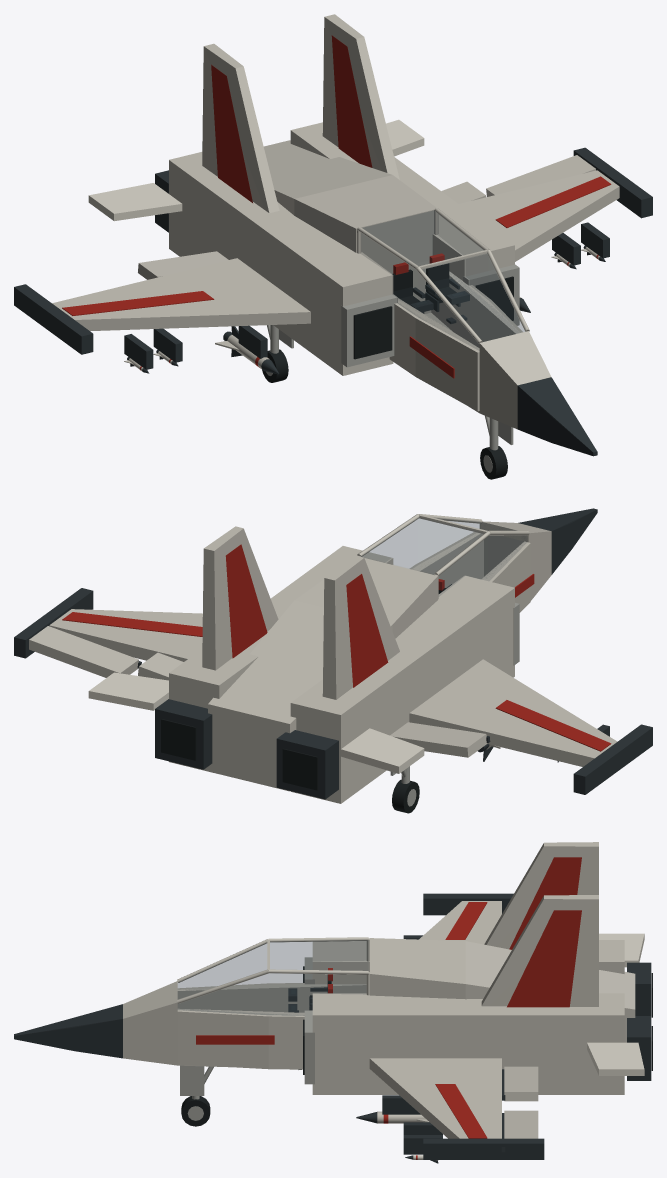
3 renders of one model, top to bottom at view 1: azimuth 30°, elevation 25°; view 2: azimuth 150°, elevation 25°; view 3: azimuth 270°, elevation 25°, orthographic. The views are drawn at different scales.
Visible parts, largest first — view 1: jet-c-painted, jet-c-glazing, elevator-left-fleet-armor, breakaway-0-painted, aileron-right-painted, breakaway-1-painted, crew-chair-copilot-painted, flap-left-painted, crew-chair-pilot-painted, elevator-right-fleet-armor, store-left-large-painted, gear-wheel-nose-0-0-painted; view 2: jet-c-painted, jet-c-glazing, aileron-right-painted, elevator-left-fleet-armor, breakaway-0-painted, elevator-right-fleet-armor, flap-left-painted, breakaway-1-painted, flap-right-painted, gear-wheel-left-0-0-painted; view 3: jet-c-painted, jet-c-glazing, breakaway-1-painted, elevator-right-fleet-armor, flap-right-painted, breakaway-0-painted, aileron-right-painted, landing-gear-nose-painted, elevator-left-fleet-armor, gear-wheel-nose-0-0-painted, store-right-large-painted.
Boxes of the visible parts, x1,y1,x2,y2 form: jet-c-painted: (52, 14, 619, 456); jet-c-glazing: (361, 210, 524, 349); elevator-left-fleet-armor: (88, 183, 182, 221); breakaway-0-painted: (14, 284, 93, 354); aileron-right-painted: (486, 155, 595, 196); breakaway-1-painted: (573, 147, 652, 218); crew-chair-copilot-painted: (425, 253, 469, 323); flap-left-painted: (138, 251, 228, 279); crew-chair-pilot-painted: (392, 262, 433, 313); elevator-right-fleet-armor: (386, 119, 424, 156); store-left-large-painted: (215, 326, 279, 374); gear-wheel-nose-0-0-painted: (480, 446, 507, 479); jet-c-painted: (49, 508, 617, 803); jet-c-glazing: (361, 517, 527, 595); aileron-right-painted: (29, 626, 141, 677); elevator-left-fleet-armor: (341, 728, 424, 773); breakaway-0-painted: (573, 724, 652, 794); elevator-right-fleet-armor: (88, 672, 168, 710); flap-left-painted: (390, 722, 490, 757); breakaway-1-painted: (14, 588, 93, 658); flap-right-painted: (138, 652, 183, 680); gear-wheel-left-0-0-painted: (392, 779, 419, 813); jet-c-painted: (14, 842, 652, 1154); jet-c-glazing: (178, 940, 367, 1015); breakaway-1-painted: (423, 1138, 544, 1159); elevator-right-fleet-armor: (587, 1042, 644, 1075); flap-right-painted: (502, 1066, 538, 1101); breakaway-0-painted: (423, 893, 513, 915); aileron-right-painted: (501, 1110, 538, 1152); landing-gear-nose-painted: (180, 1065, 213, 1099); elevator-left-fleet-armor: (599, 933, 644, 967); gear-wheel-nose-0-0-painted: (181, 1096, 210, 1126); store-right-large-painted: (356, 1111, 429, 1123).
Size of the model in its own units: 82.04 by 38.67 by 88.42.
